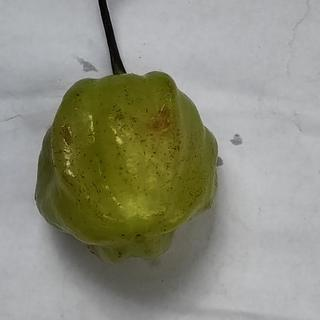Defect: (55, 123, 77, 147)
Fly-bites: (133, 231, 145, 240), (116, 250, 127, 258), (87, 158, 95, 166), (117, 165, 127, 171), (75, 90, 82, 98), (150, 150, 158, 156), (102, 174, 108, 181), (121, 231, 126, 239), (98, 159, 104, 164), (125, 169, 129, 174)
